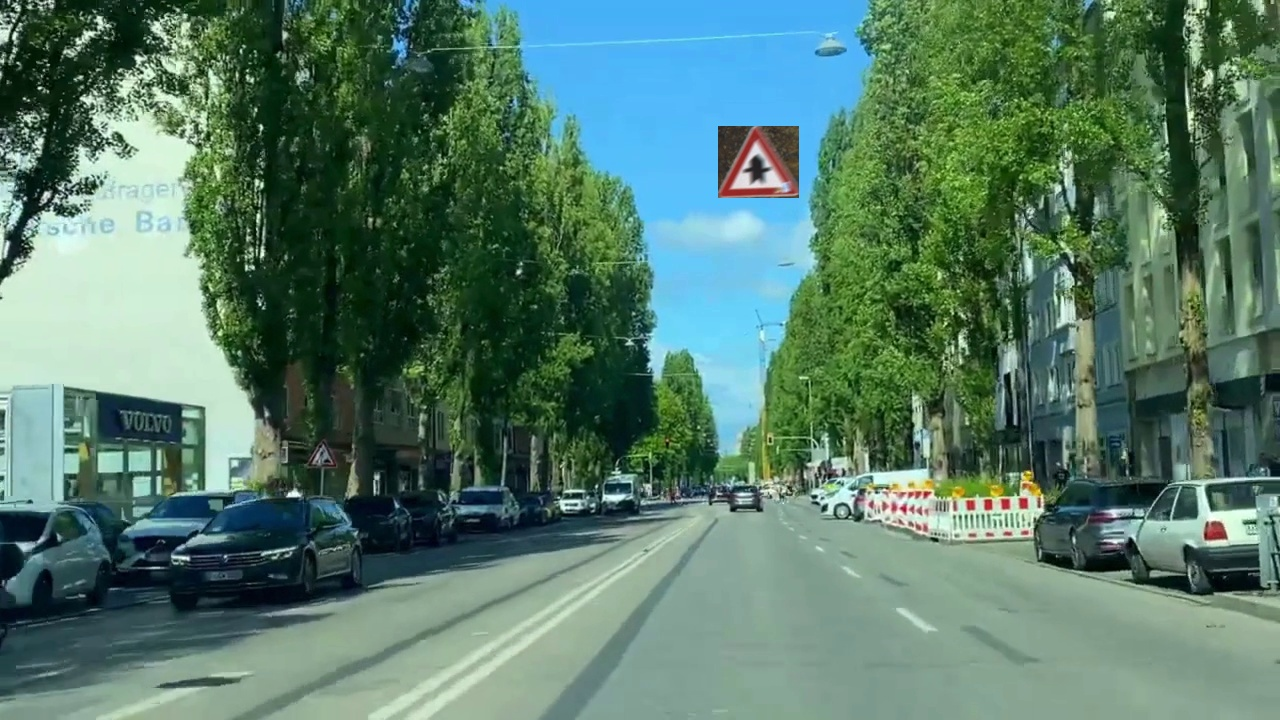Right-of-way: (718, 126, 799, 198)
